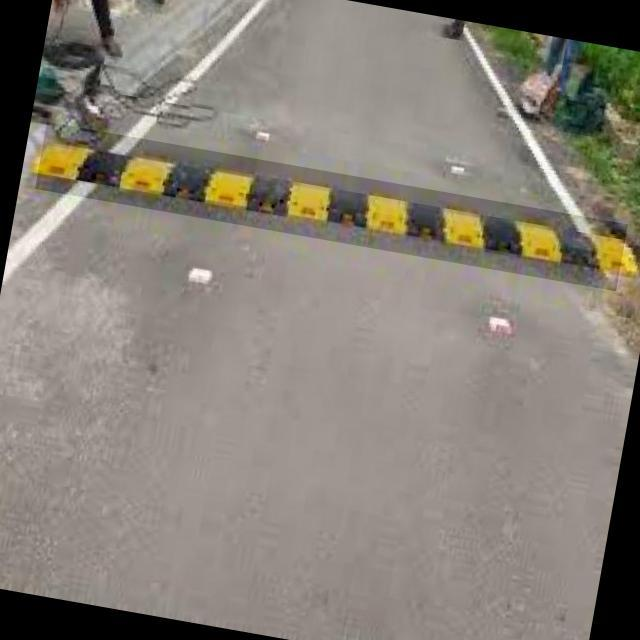speedbreaker: (35, 121, 628, 292)
